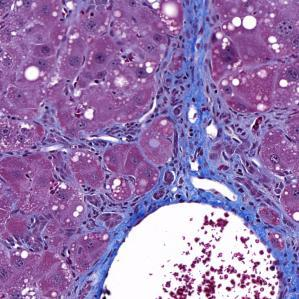fibrosis: (158, 27, 226, 201), (233, 111, 296, 247), (93, 194, 130, 254)
